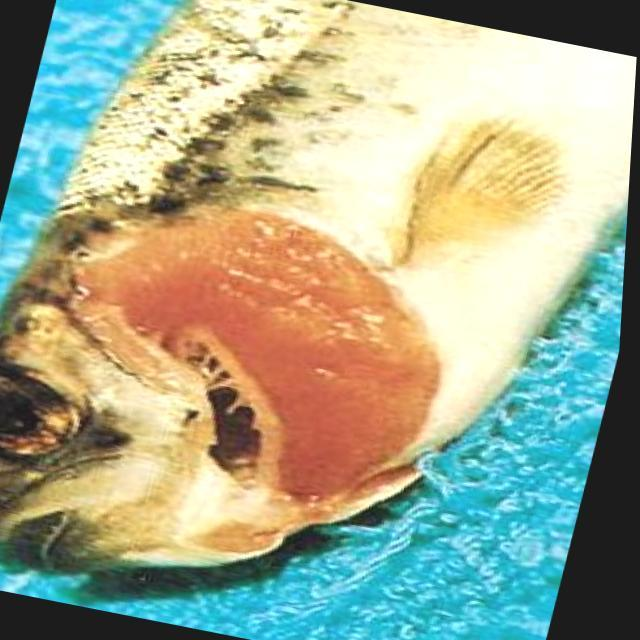Gill Disease: (0, 153, 478, 584)
